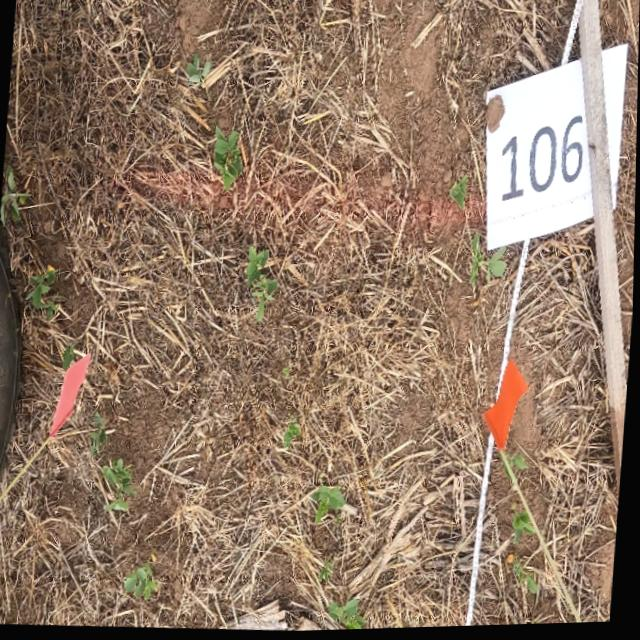soy_plant: (1, 166, 55, 225), (247, 248, 280, 323), (470, 236, 507, 288), (215, 128, 243, 192), (104, 460, 138, 512), (27, 266, 60, 319), (126, 563, 160, 600), (314, 488, 347, 525), (331, 601, 369, 632), (516, 564, 542, 597), (92, 413, 110, 458), (186, 55, 212, 84), (516, 514, 537, 546), (450, 178, 469, 211), (284, 420, 303, 449), (321, 562, 337, 584), (510, 457, 531, 472)
